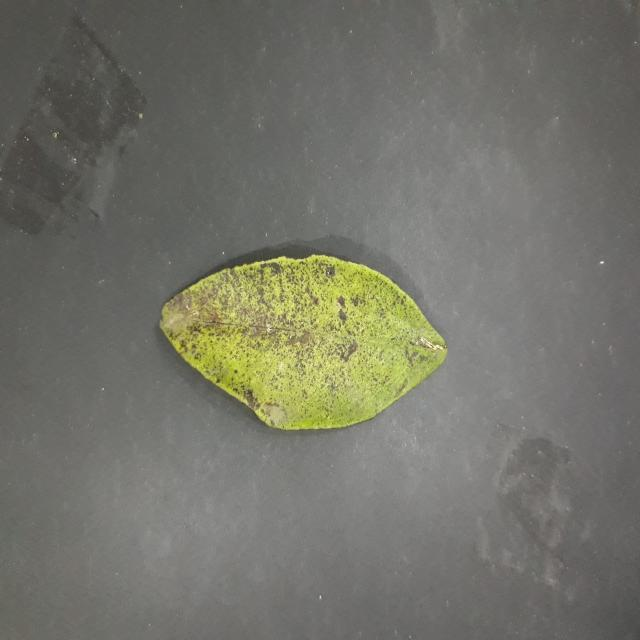greasy_spot: (160, 255, 447, 430)
